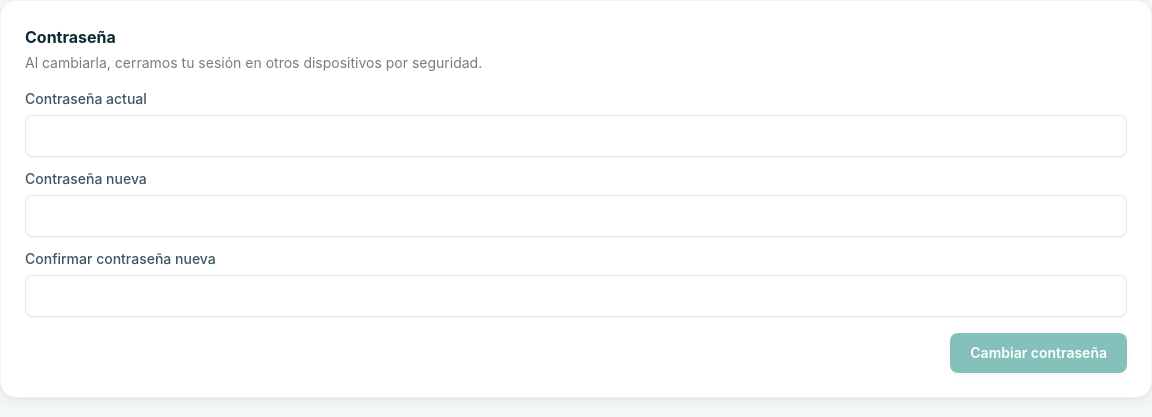
Scenario: TarjetaPassword (Módulo 05, HU Acción 3) › habilita el botón con exactamente el largo mínimo (6 caracteres)
Type "actual123" into the password field labelled "Contraseña actual" at {"x": 576, "y": 136}, box x1=25 y1=115 x2=1127 y2=157
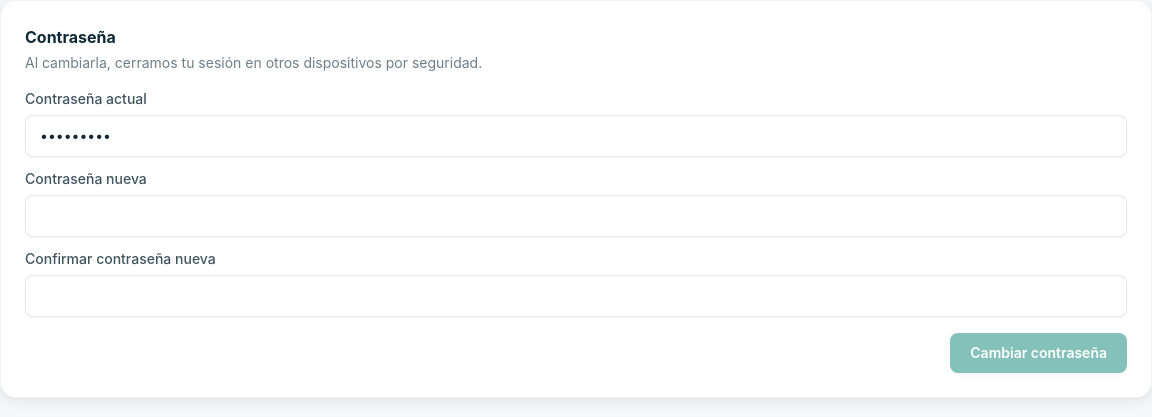
Type "abc123" into the password field labelled "Contraseña nueva" at {"x": 576, "y": 216}, box x1=25 y1=195 x2=1127 y2=237
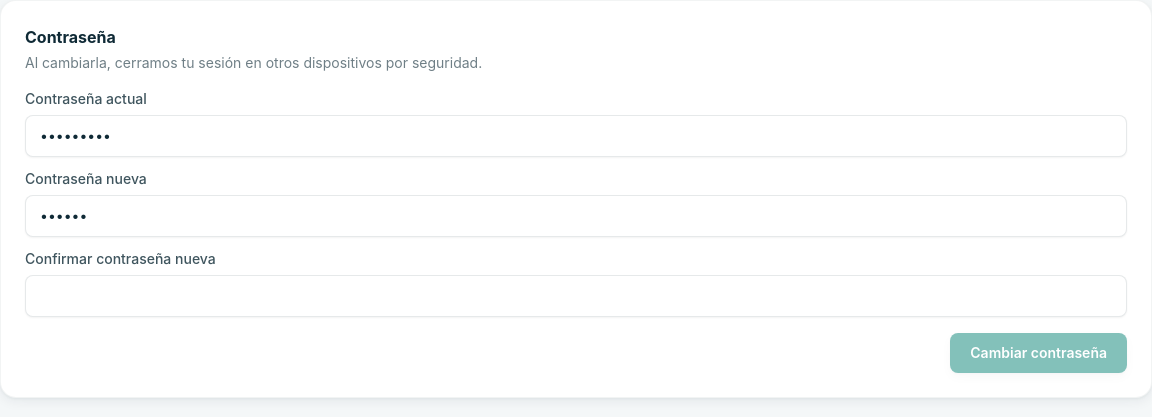
Type "abc123" into the password field labelled "Confirmar contraseña nueva" at {"x": 576, "y": 296}, box x1=25 y1=275 x2=1127 y2=317
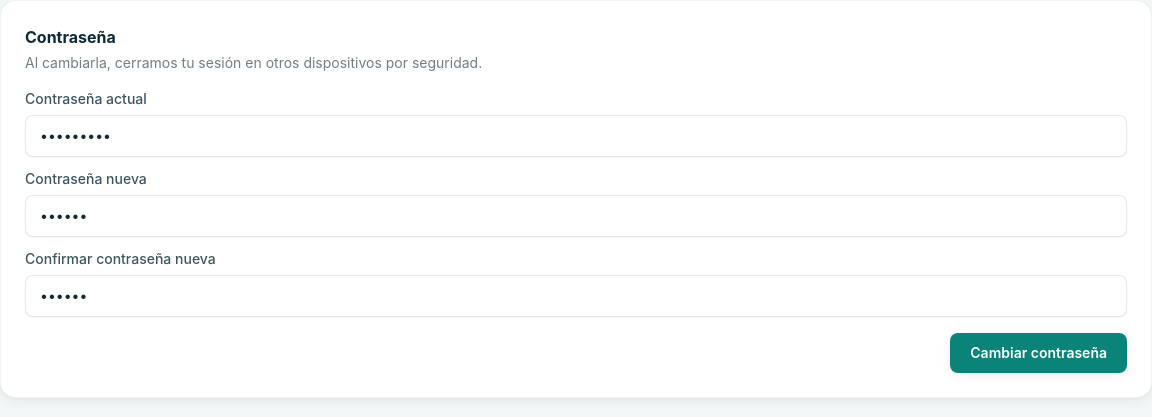
Now the button "Cambiar contraseña" is enabled, box x1=950 y1=333 x2=1127 y2=373
